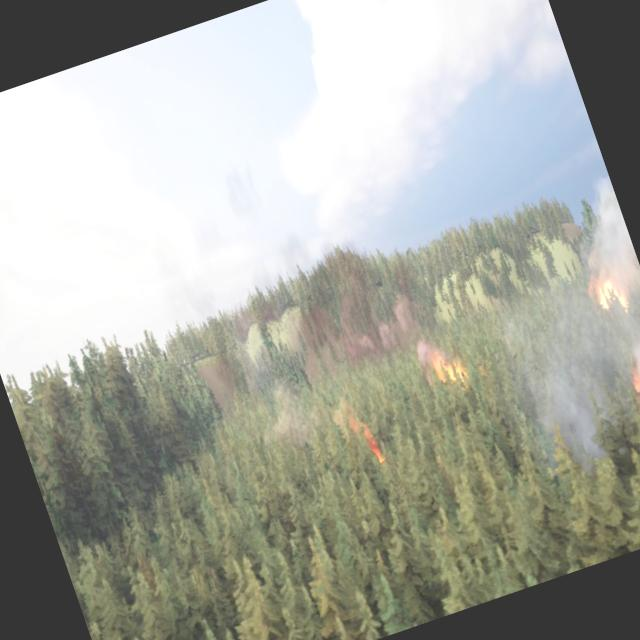fire: (339, 402, 387, 472), (421, 339, 478, 397), (584, 261, 624, 311), (622, 358, 640, 413)
smoke: (469, 180, 640, 480)
